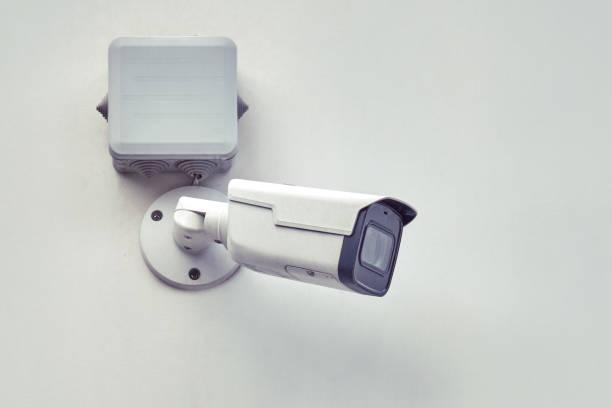camera: (197, 151, 446, 317)
